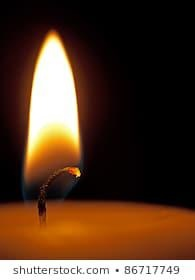fire: (24, 28, 83, 183)
